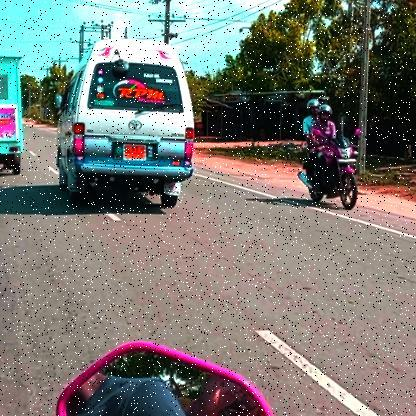motorcycle: (296, 135, 362, 213)
